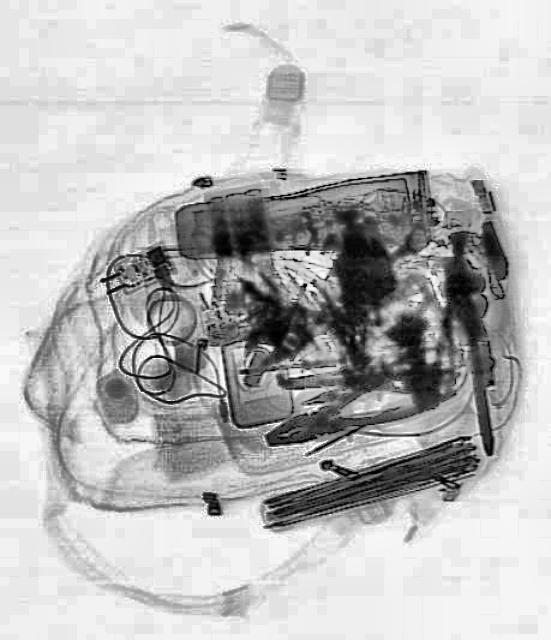Pliers: (257, 352, 459, 462)
